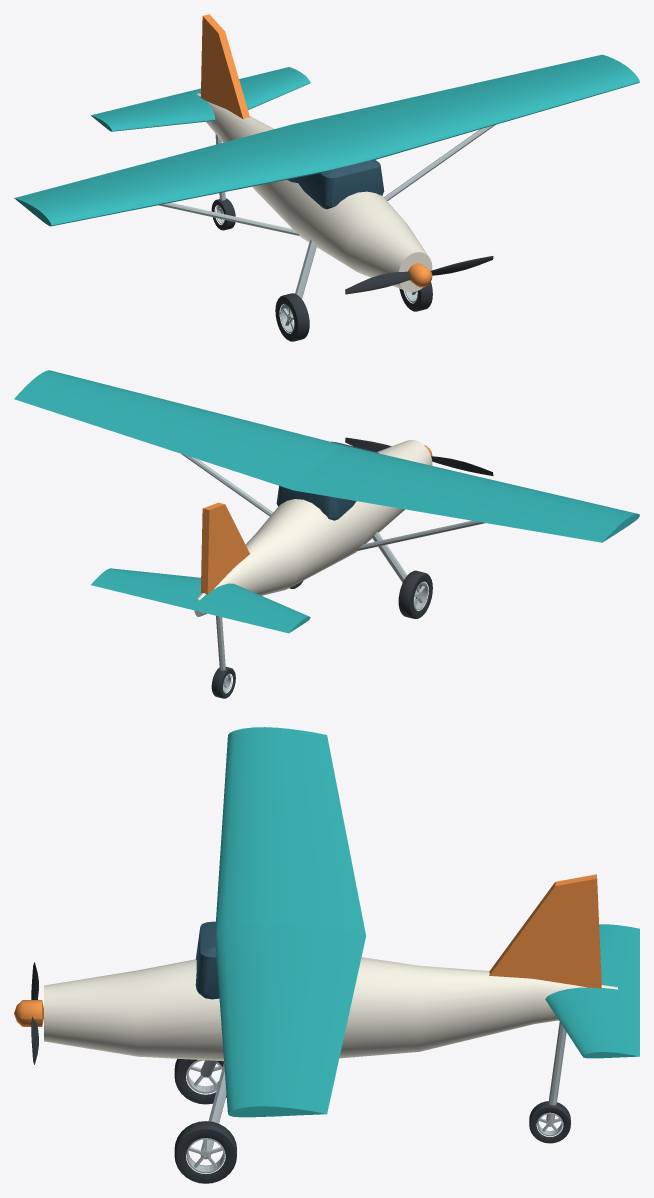
Rendered from air-land-sea-vehicles-propeller-plane-1711035a__20026.glb.
3 renders of one model, top to bottom at view 1: azimuth 30°, elevation 25°; view 2: azimuth 150°, elevation 25°; view 3: azimuth 270°, elevation 25°, orthographic. The views are drawn at different scales.
Parts seen in each view (by area): view 1: propeller-plane, propeller, main-wheel-left, main-wheel-right; view 2: propeller-plane, main-wheel-left, propeller, tail-wheel; view 3: propeller-plane, main-wheel-right (×2), tail-wheel, main-wheel-left, propeller.
Boxes of the visible parts, x1,y1,x2,y2 form: propeller-plane: (14,14,639,317); propeller: (345,256,493,294); main-wheel-left: (275,293,309,341); main-wheel-right: (399,281,432,311); propeller-plane: (14,370,639,683); main-wheel-left: (398,570,432,618); propeller: (345,437,493,475); tail-wheel: (211,667,235,698); propeller-plane: (44,727,639,1150); main-wheel-right (×2): (174,1121,236,1183); tail-wheel: (529,1101,570,1143); main-wheel-left: (174,1058,226,1104); propeller: (14,1000,43,1026).
Size of the model in its own units: 8.6 by 2.8 by 6.
